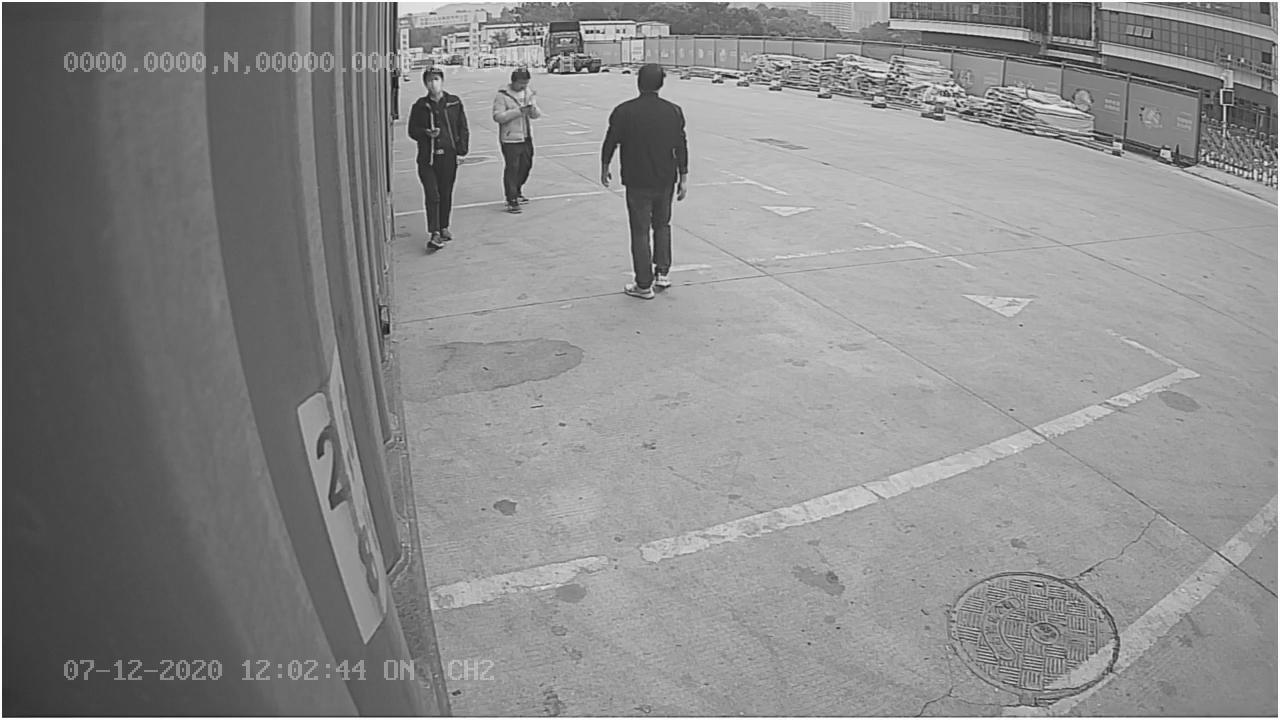person: (601, 57, 694, 303)
